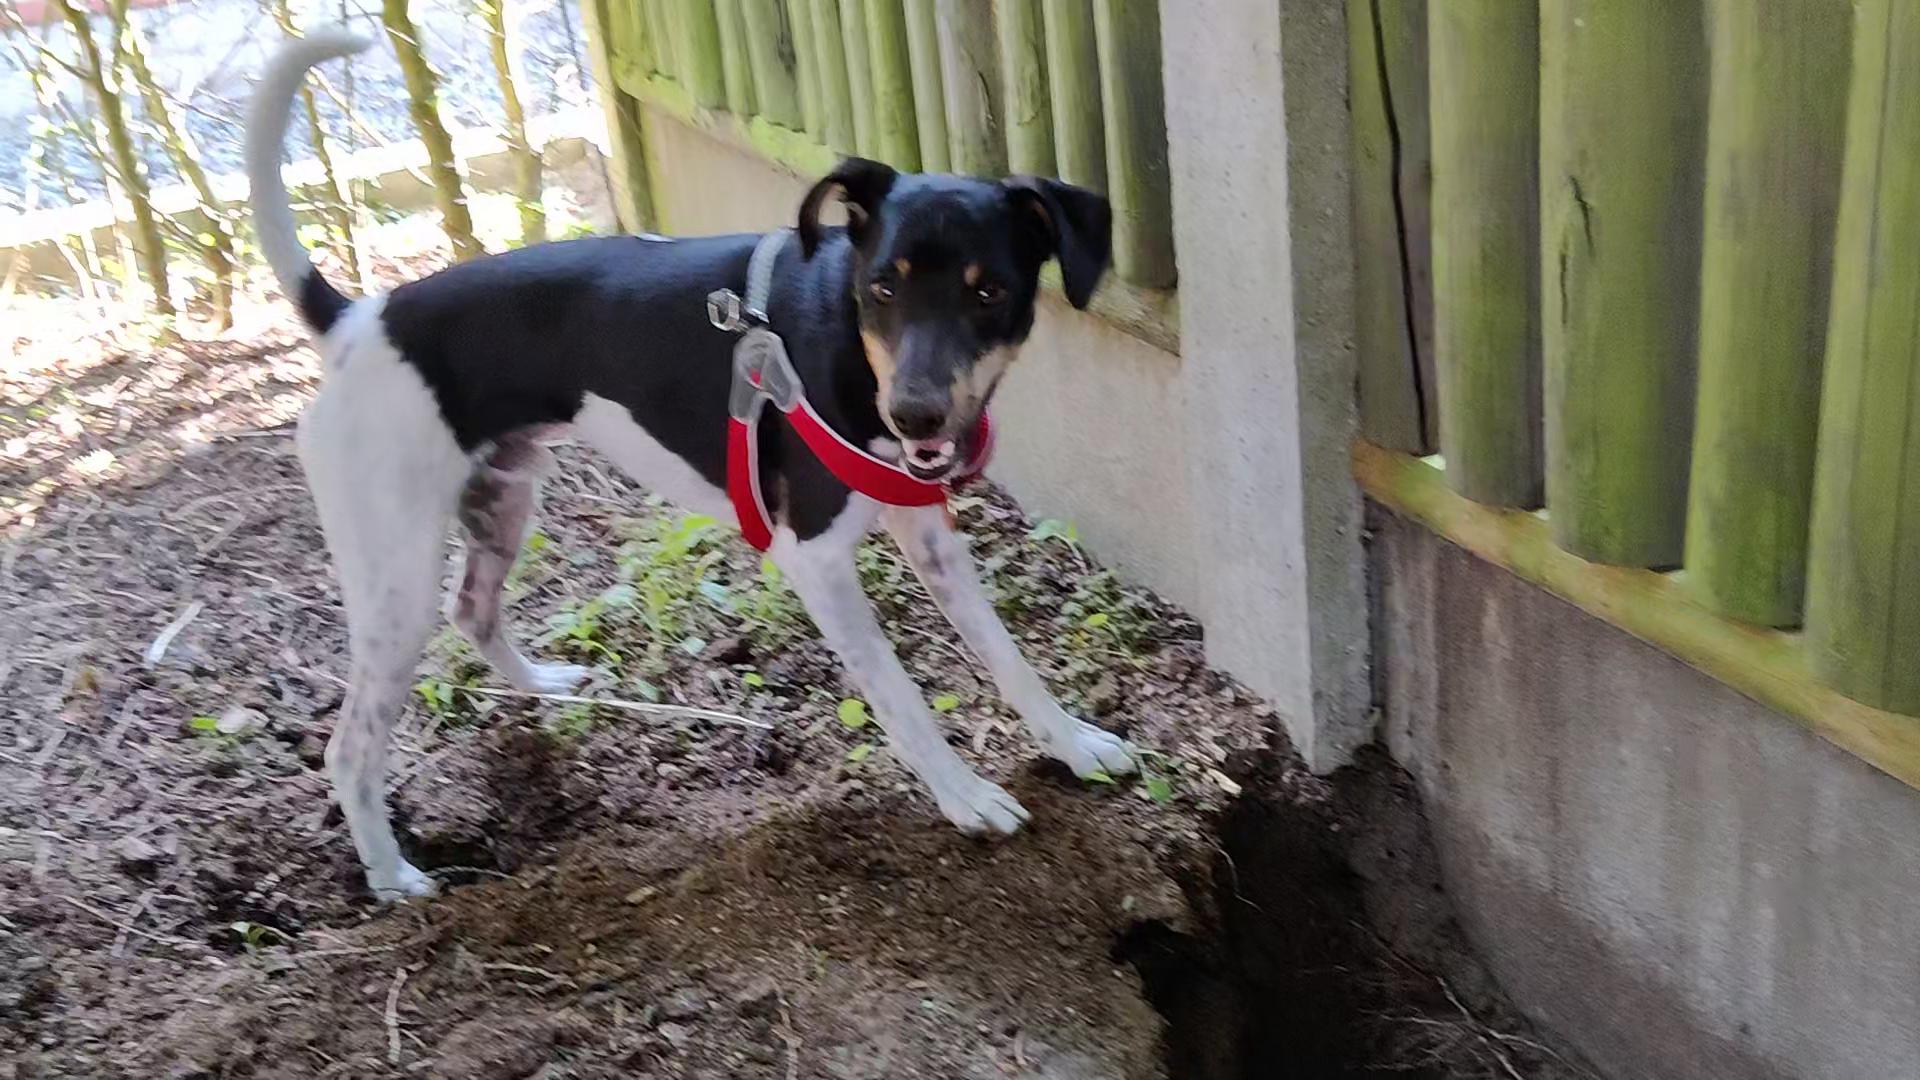Dog: (220, 18, 1164, 928)
